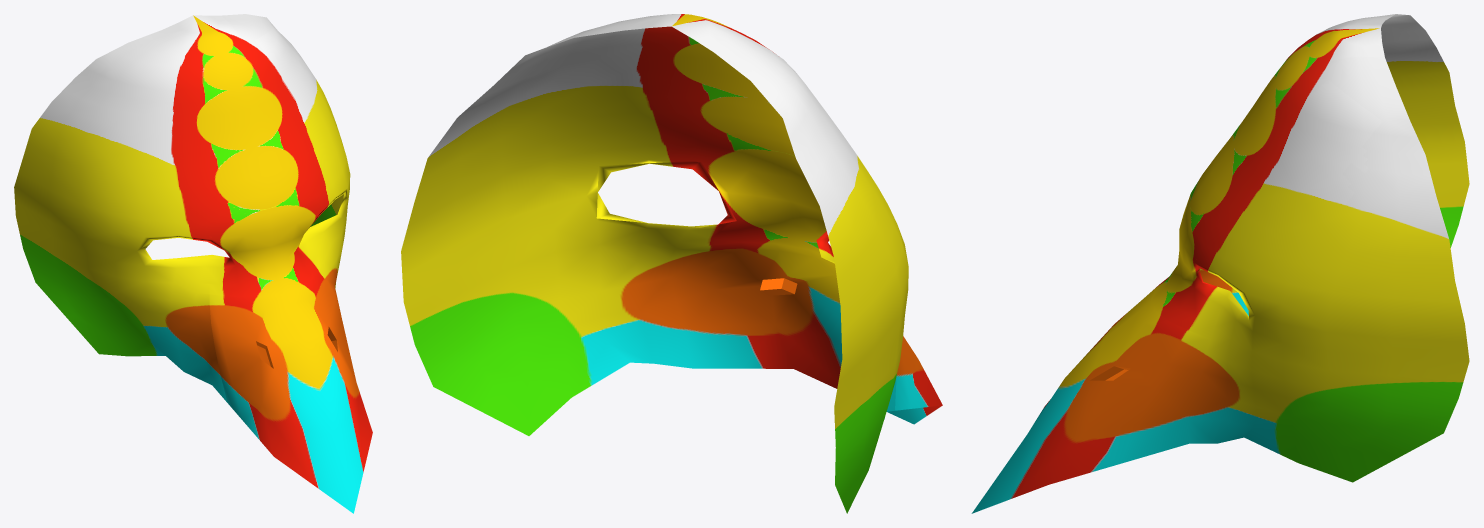
File: DashAnimation1.fbx
3 views of the same model, side by side, from view 1: azimuth 30°, elevation 25°; view 2: azimuth 150°, elevation 25°; view 3: azimuth 270°, elevation 25° (orthographic). The views are drawn at different scales.
Parts seen in each view (by area): view 1: pasted__pSphere1; view 2: pasted__pSphere1; view 3: pasted__pSphere1.
Boxes of the visible parts, x1=… form: pasted__pSphere1: x1=14, y1=14, x2=372, y2=513; pasted__pSphere1: x1=401, y1=14, x2=942, y2=513; pasted__pSphere1: x1=971, y1=14, x2=1469, y2=513.
Bounding box in the file's own units: 4.86 × 6.06 × 5.64.
